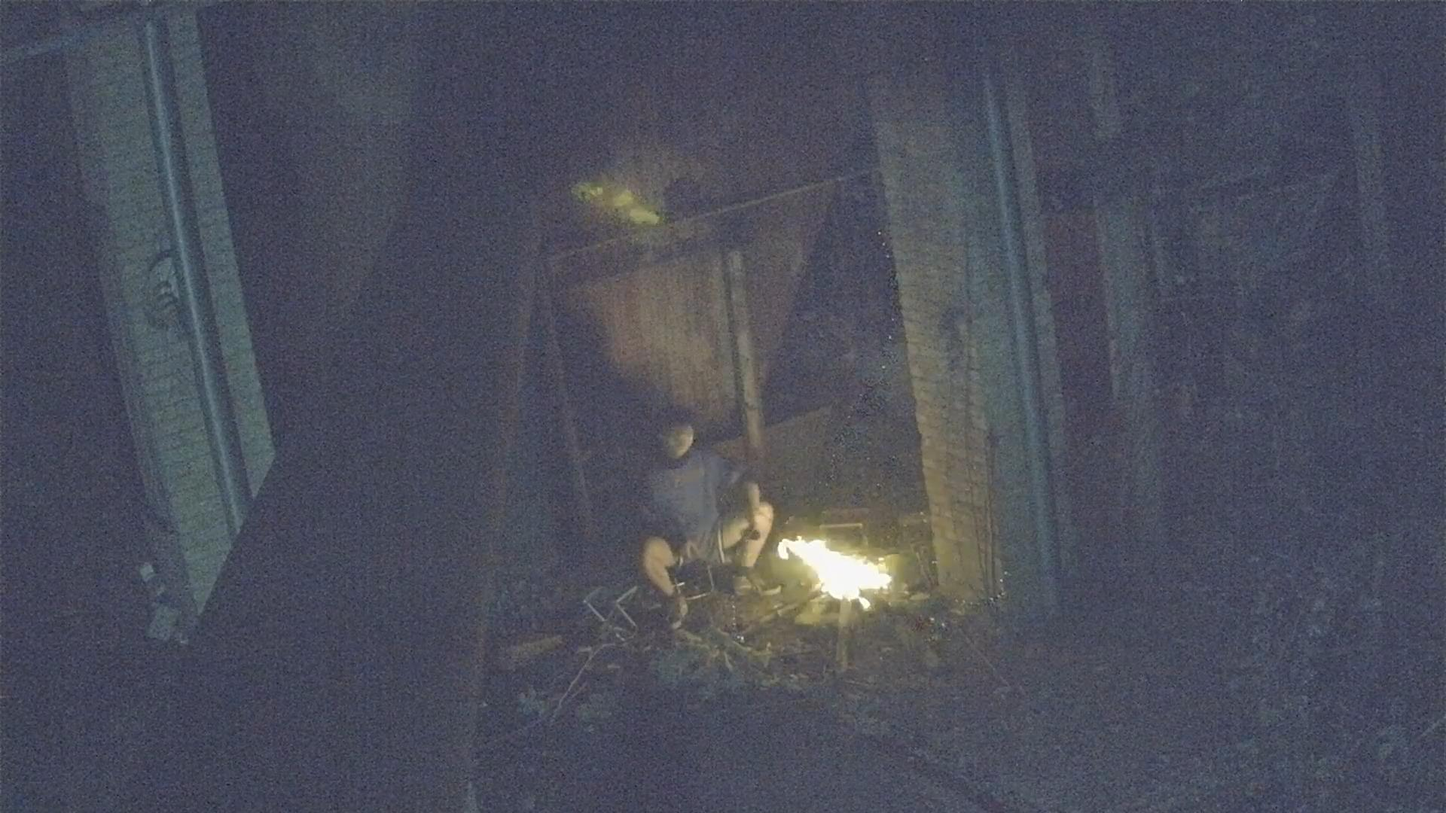fire: (776, 537, 891, 609)
